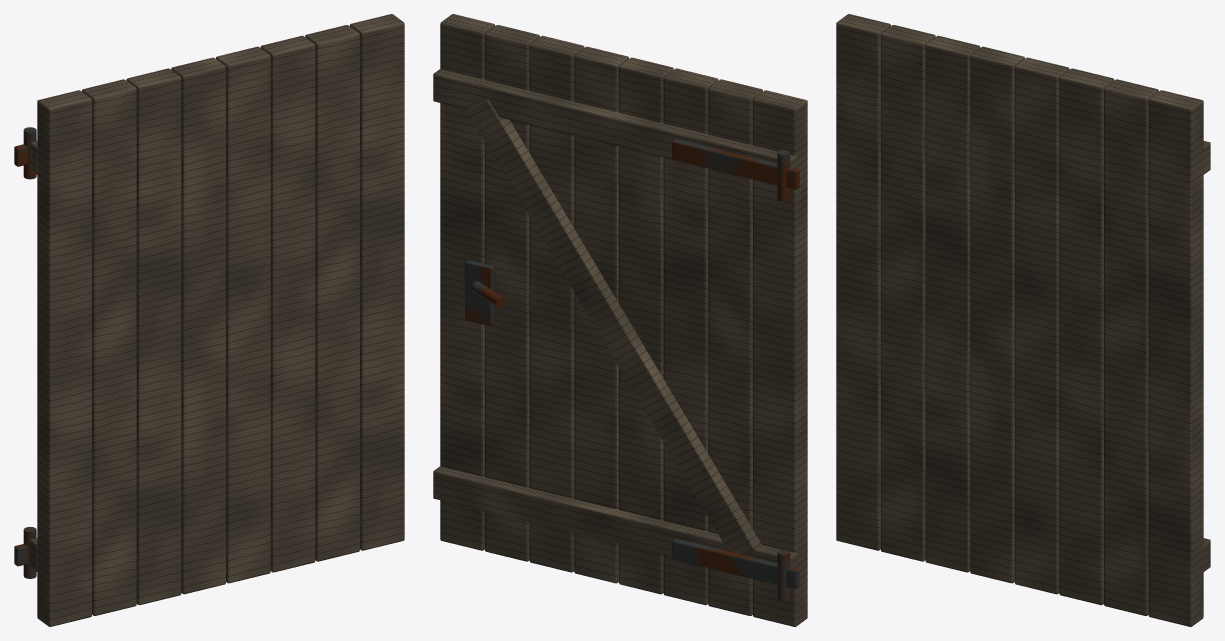
File: DoorLeaf.fbx
The picture shows the model from 3 angles, left to right: view 1: azimuth 30°, elevation 25°; view 2: azimuth 150°, elevation 25°; view 3: azimuth 330°, elevation 25°; orthographic projection.
Parts seen in each view (by area): view 1: DoorLeaf; view 2: DoorLeaf; view 3: DoorLeaf.
Part boxes in pixels (x1,y1,x2,y2): DoorLeaf: (14,14,404,626); DoorLeaf: (433,14,807,626); DoorLeaf: (836,14,1210,626).
Size of the model in its own units: 165 by 222 by 25.97.
